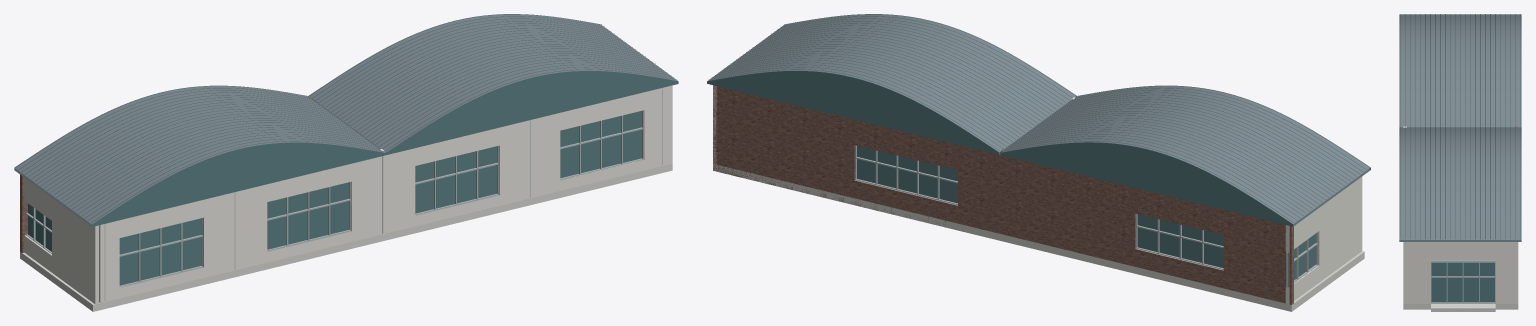
The picture shows the model from 3 angles, left to right: view 1: azimuth 30°, elevation 25°; view 2: azimuth 150°, elevation 25°; view 3: azimuth 270°, elevation 25°; orthographic projection. The views are drawn at different scales.
Visible parts, largest first — view 1: wonju-museum__twinBarrelRoofs, wonju-museum__white, wonju-museum__glass, wonju-museum__pavilionGlazing, wonju-museum__roofStandingSeams, wonju-museum__foundation, wonju-museum__frame, wonju-museum__reveal, wonju-museum__frontPanelJoints, wonju-museum__brick; view 2: wonju-museum__twinBarrelRoofs, wonju-museum__brick, wonju-museum__glass, wonju-museum__roofStandingSeams, wonju-museum__pavilionGlazing, wonju-museum__foundation, wonju-museum__white, wonju-museum__frame; view 3: wonju-museum__twinBarrelRoofs, wonju-museum__roofStandingSeams, wonju-museum__white, wonju-museum__pavilionGlazing, wonju-museum__entranceThreshold_0, wonju-museum__frame, wonju-museum__soffit, wonju-museum__foundation, wonju-museum__entryHead.
Part boxes in pixels (left/top/right/bottom): wonju-museum__twinBarrelRoofs: left=14, top=14, right=677, bottom=224; wonju-museum__white: left=24, top=85, right=672, bottom=304; wonju-museum__glass: left=14, top=71, right=678, bottom=226; wonju-museum__pavilionGlazing: left=28, top=111, right=641, bottom=285; wonju-museum__roofStandingSeams: left=15, top=14, right=676, bottom=222; wonju-museum__foundation: left=20, top=163, right=672, bottom=311; wonju-museum__frame: left=26, top=110, right=643, bottom=286; wonju-museum__reveal: left=119, top=112, right=644, bottom=287; wonju-museum__frontPanelJoints: left=104, top=88, right=662, bottom=300; wonju-museum__brick: left=20, top=97, right=314, bottom=252; wonju-museum__twinBarrelRoofs: left=707, top=14, right=1370, bottom=224; wonju-museum__brick: left=713, top=86, right=1293, bottom=304; wonju-museum__glass: left=707, top=71, right=1370, bottom=226; wonju-museum__roofStandingSeams: left=708, top=14, right=1369, bottom=222; wonju-museum__pavilionGlazing: left=857, top=145, right=1315, bottom=280; wonju-museum__foundation: left=713, top=164, right=1364, bottom=311; wonju-museum__white: left=713, top=85, right=1362, bottom=310; wonju-museum__frame: left=855, top=145, right=1317, bottom=287; wonju-museum__twinBarrelRoofs: left=1399, top=14, right=1521, bottom=239; wonju-museum__roofStandingSeams: left=1400, top=14, right=1520, bottom=239; wonju-museum__white: left=1403, top=126, right=1518, bottom=303; wonju-museum__pavilionGlazing: left=1431, top=263, right=1494, bottom=302; wonju-museum__entranceThreshold_0: left=1431, top=303, right=1495, bottom=311; wonju-museum__frame: left=1431, top=263, right=1495, bottom=303; wonju-museum__soffit: left=1399, top=127, right=1521, bottom=241; wonju-museum__foundation: left=1403, top=303, right=1518, bottom=309; wonju-museum__entryHead: left=1431, top=260, right=1495, bottom=262.
Size of the model in its own units: 40.2 by 8.42 by 9.11.
9 materials, 1 textured.
